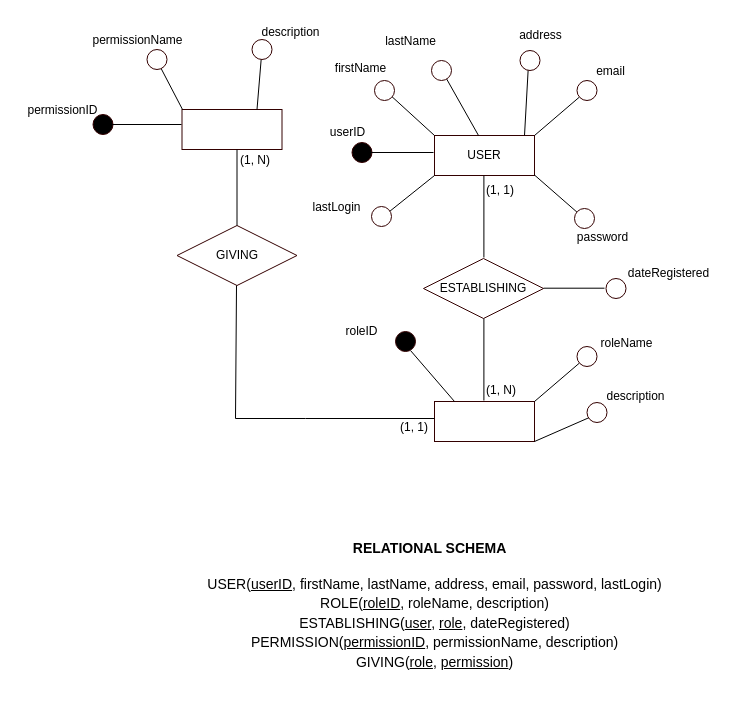
The diagram is 736 pixels wide and 710 high, and some of its shapes have lost their labels. The shapes that lost their labels are listed below. From the top down, each one's centre as x and y in pixels, then its label:
(231,129): PERMISSION
(484,421): ROLE
